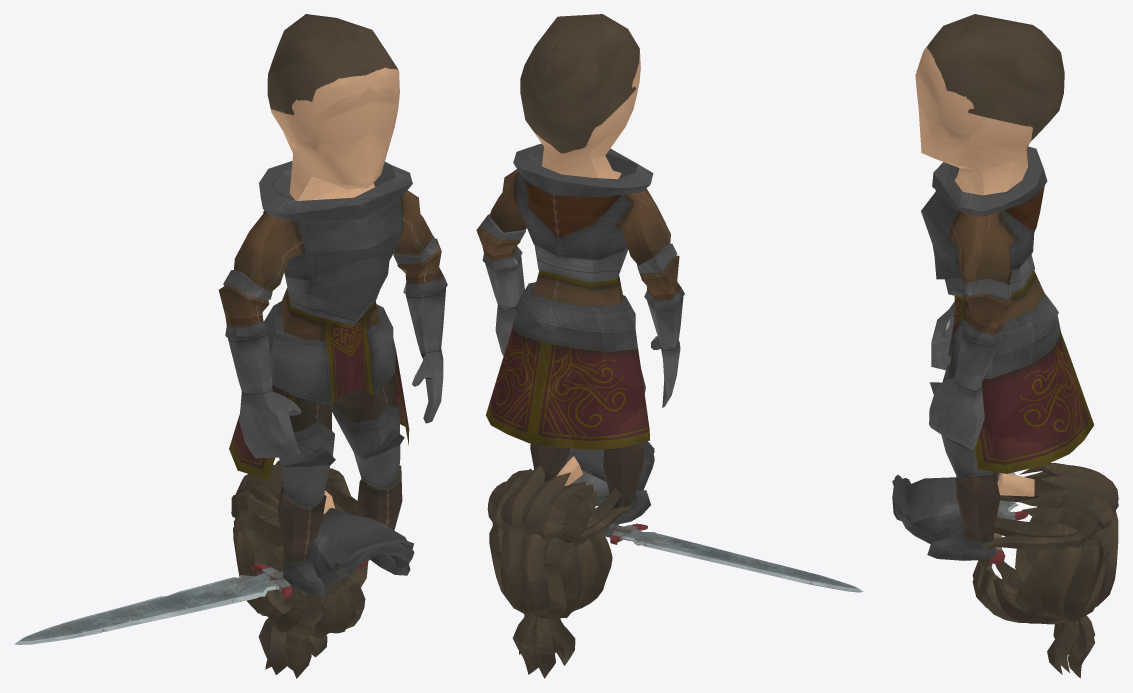
File: quaternius-char-warrior.glb
3 views of the same model, side by side, from view 1: azimuth 30°, elevation 25°; view 2: azimuth 150°, elevation 25°; view 3: azimuth 270°, elevation 25° (orthographic). The views are drawn at different scales.
Parts seen in each view (by area): view 1: Warrior_Body; view 2: Warrior_Body; view 3: Warrior_Body.
Boxes of the visible parts, x1,y1,x2,y2 form: Warrior_Body: (14, 14, 447, 678); Warrior_Body: (476, 14, 863, 678); Warrior_Body: (892, 14, 1118, 678).
Size of the model in its own units: 2.36 by 3.66 by 1.15.
2 materials, 2 textured.
